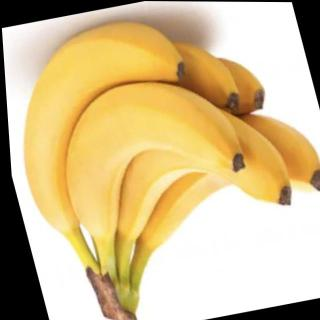banana: (1, 8, 221, 240), (39, 63, 259, 243), (77, 80, 298, 242), (103, 95, 320, 251)
